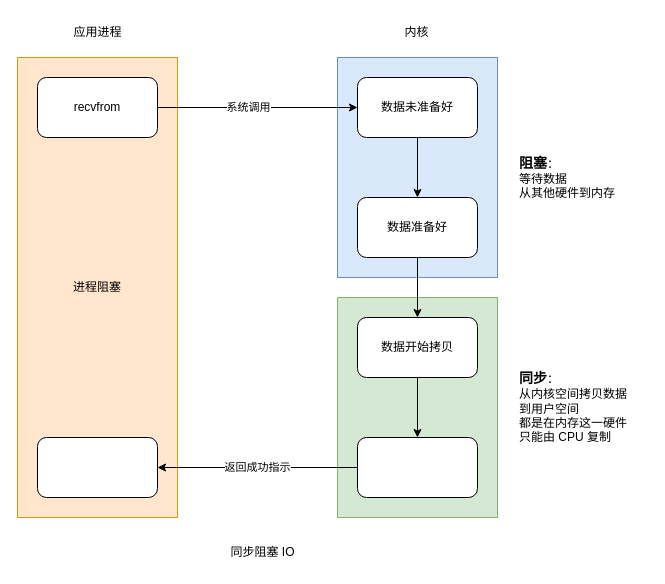
Image size: 665x584. Some labels were removed from this diagram. Here are the shapes that lost their labels. From the top down, the centre of each, then its label:
At (97,467): "数据处理".
At (417,467): "数据拷贝完成".
